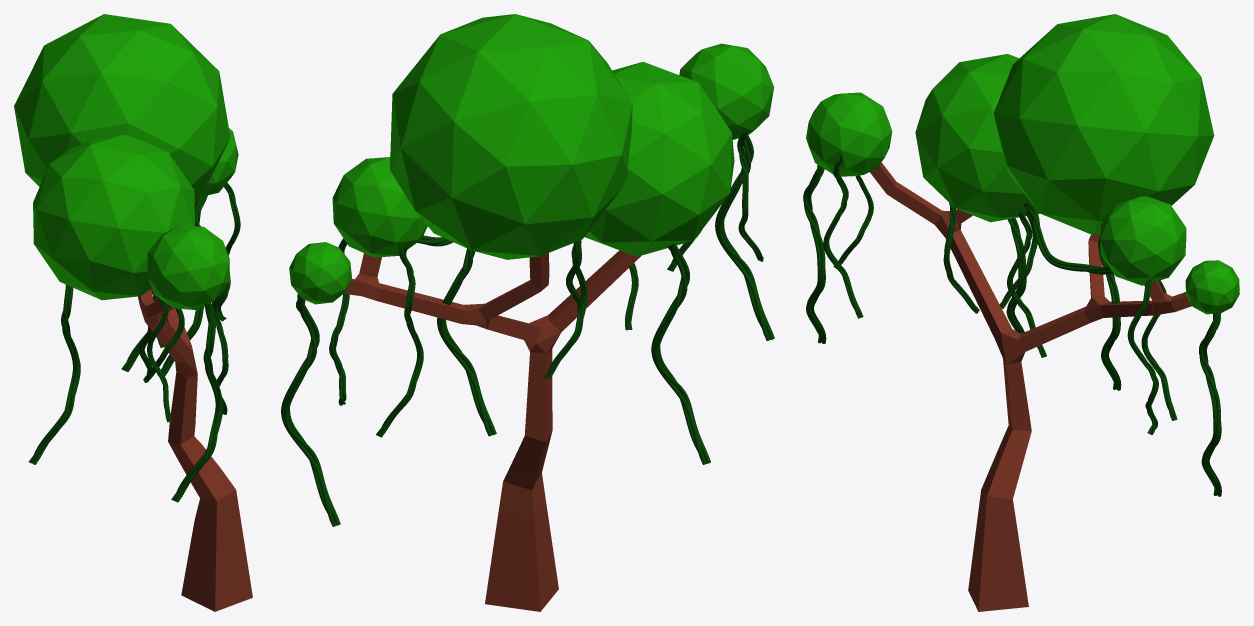
Rendered from Tree.fbx.
The picture shows the model from 3 angles, left to right: view 1: azimuth 30°, elevation 25°; view 2: azimuth 150°, elevation 25°; view 3: azimuth 270°, elevation 25°; orthographic projection. The views are drawn at different scales.
Visible parts, largest first — view 1: Body; view 2: Body; view 3: Body.
Part boxes in pixels (box(x1,y1,x2,y2)): Body: box(14, 14, 252, 611); Body: box(281, 14, 774, 611); Body: box(803, 14, 1239, 611).
Bounding box in the file's own units: 251 × 474 × 339.
